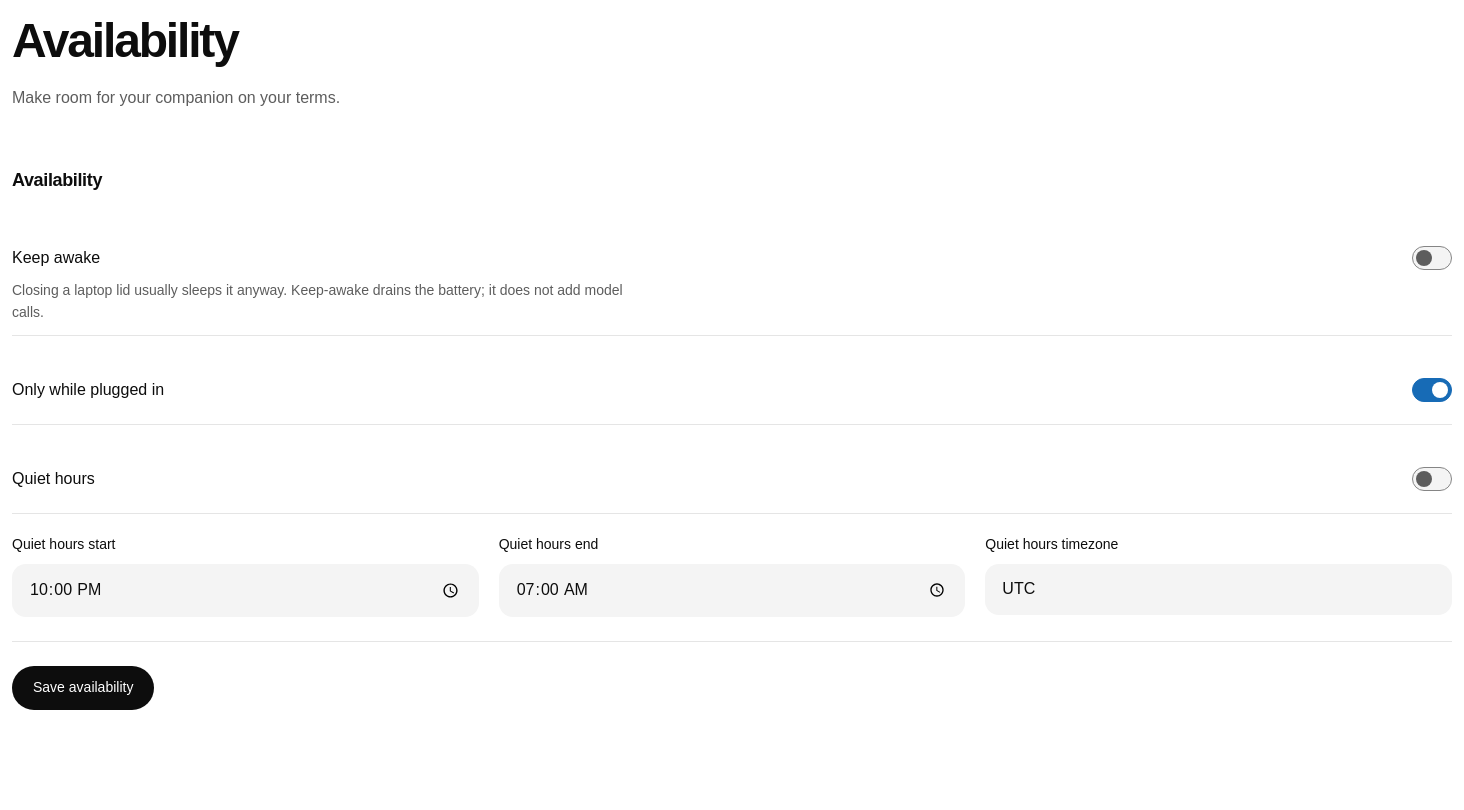
Test: saves only availability and quiet hours
Click the switch labelled "Keep awake" at (1432, 258), box [1412, 246, 1452, 270]
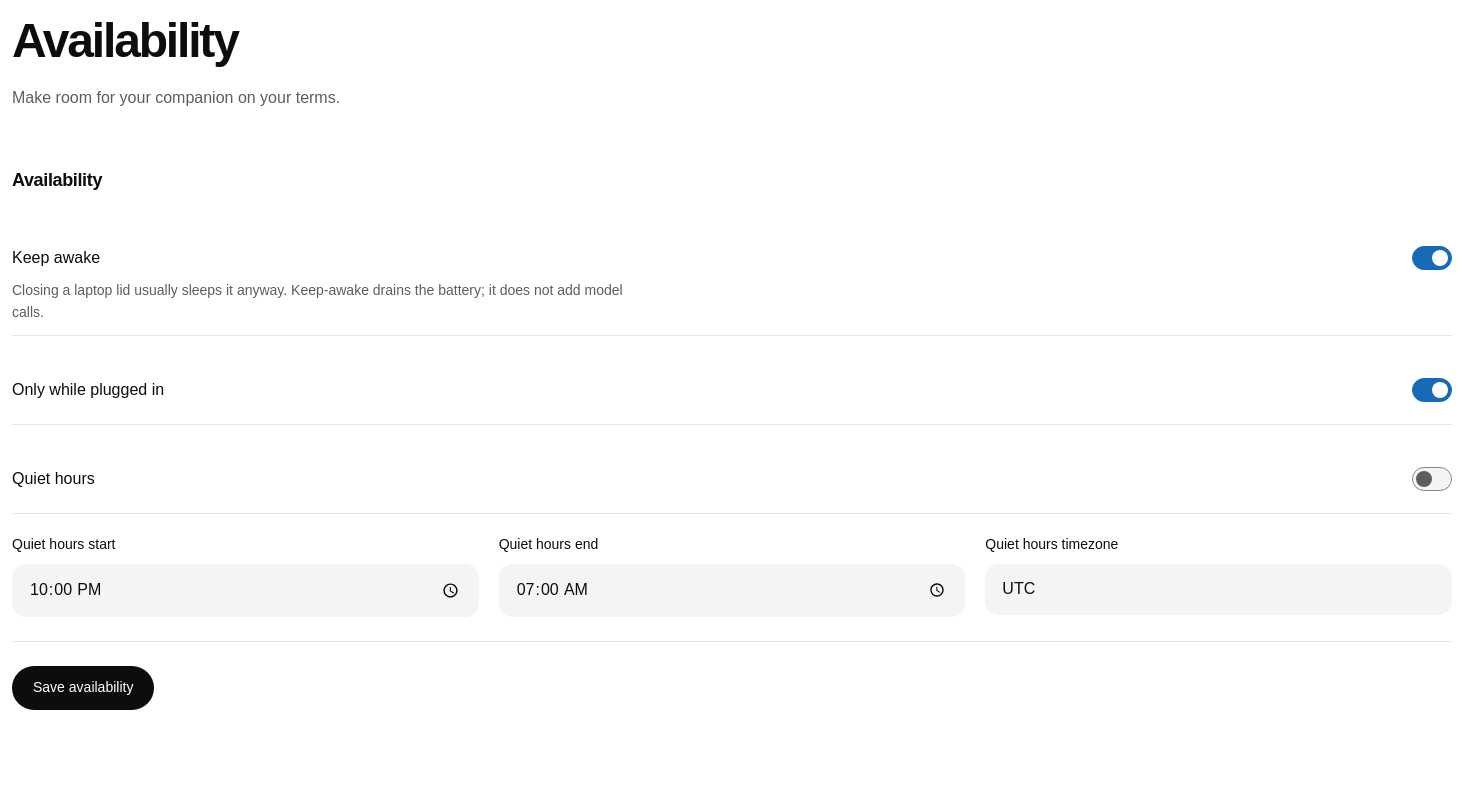
Click the switch labelled "Quiet hours" at (1432, 479), box [1412, 467, 1452, 491]
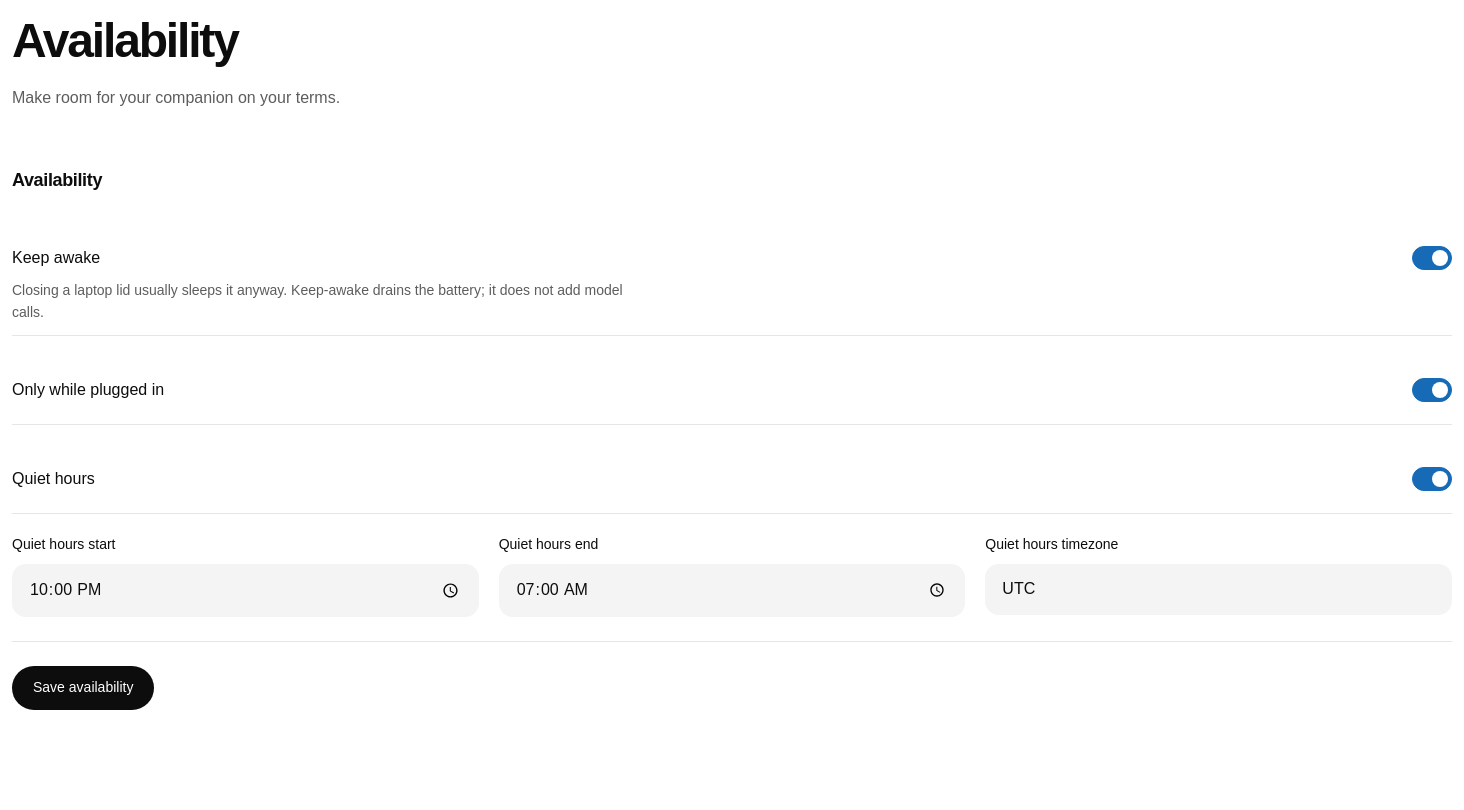
Replace the text in the time field labelled "Quiet hours start" with "21:30" at (245, 590), box [12, 564, 479, 617]
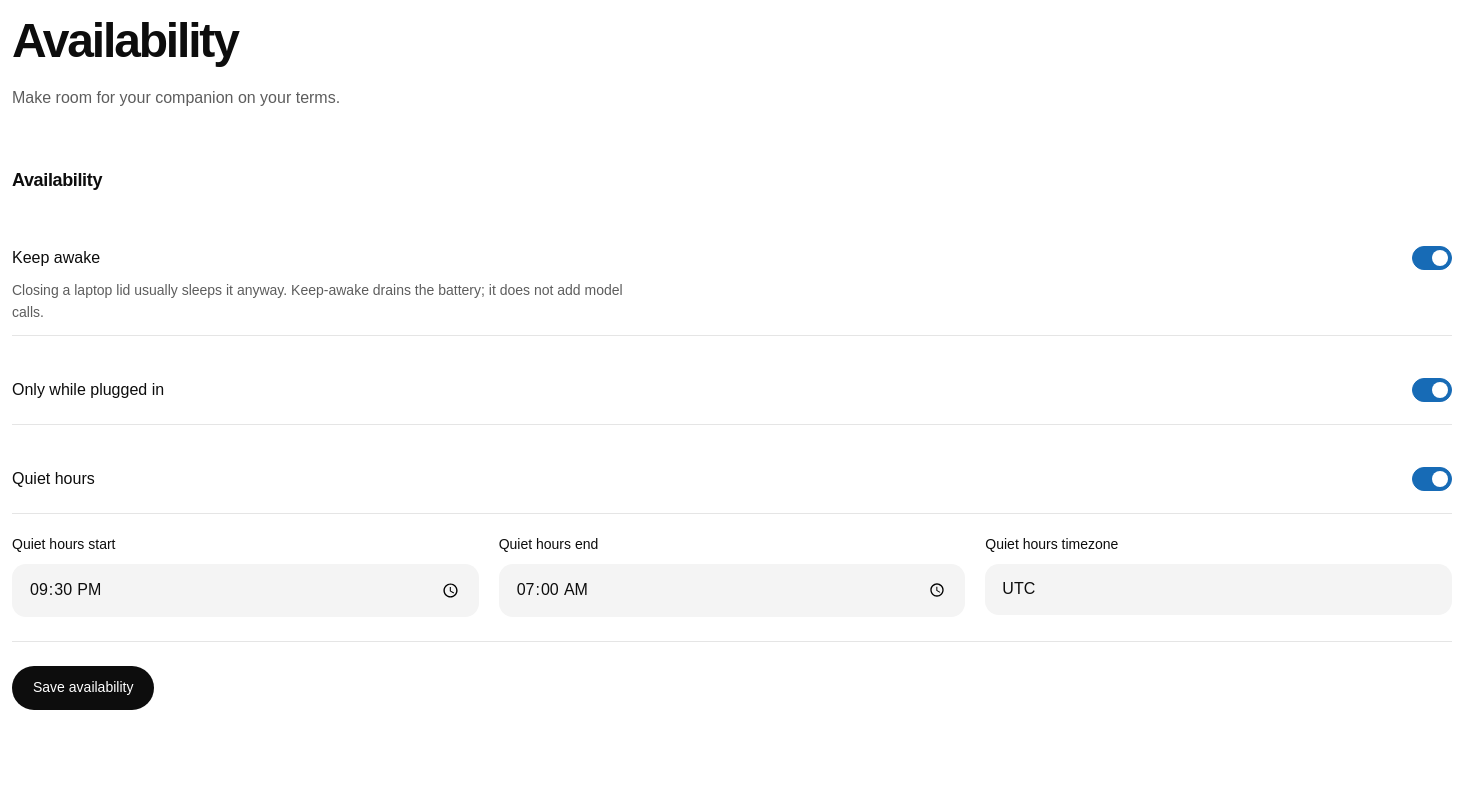
Replace the text in the time field labelled "Quiet hours end" with "08:15" at (732, 590), box [499, 564, 965, 617]
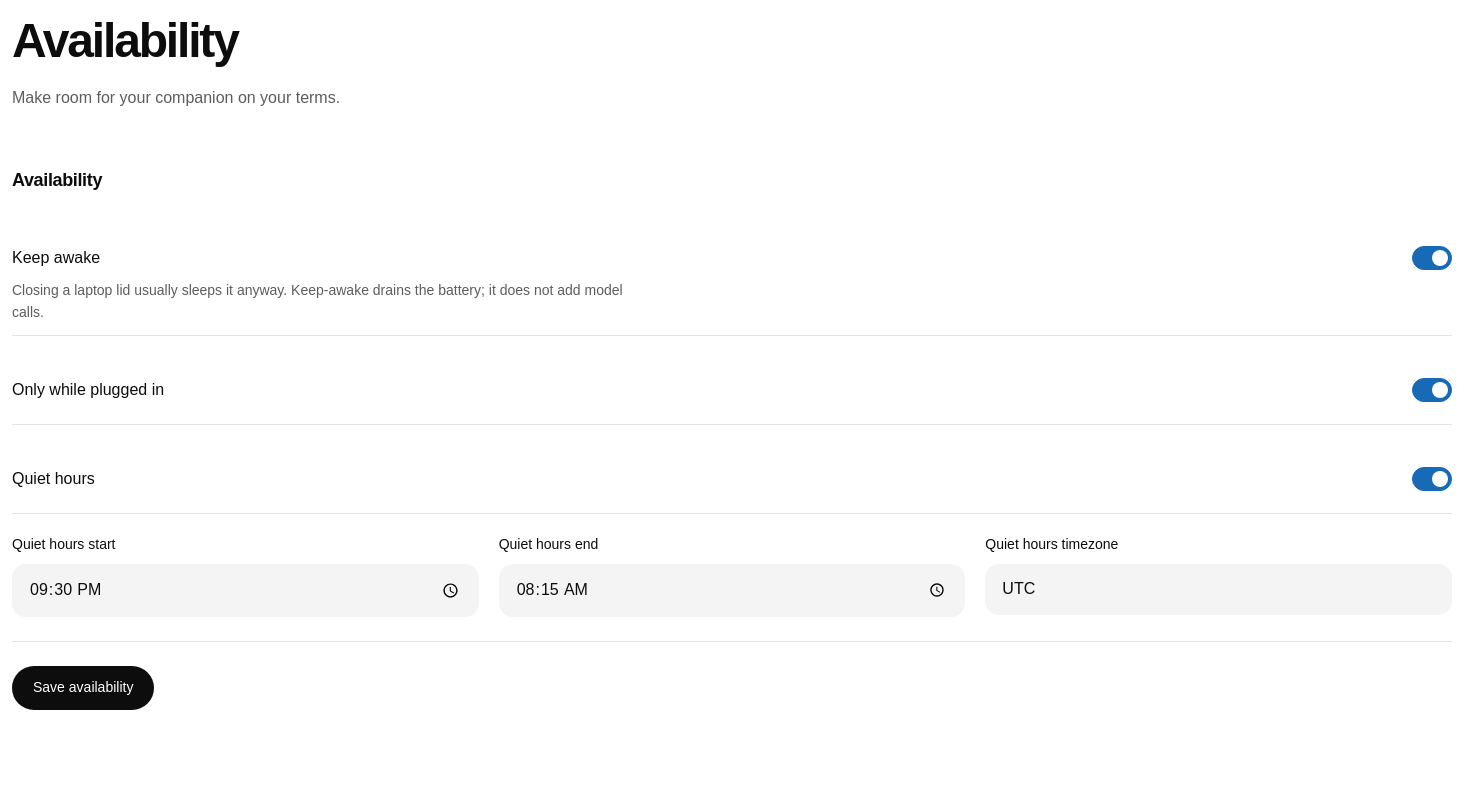
Replace the text in the field labelled "Quiet hours timezone" with "America/New_York" at (1219, 589), box [985, 564, 1452, 615]
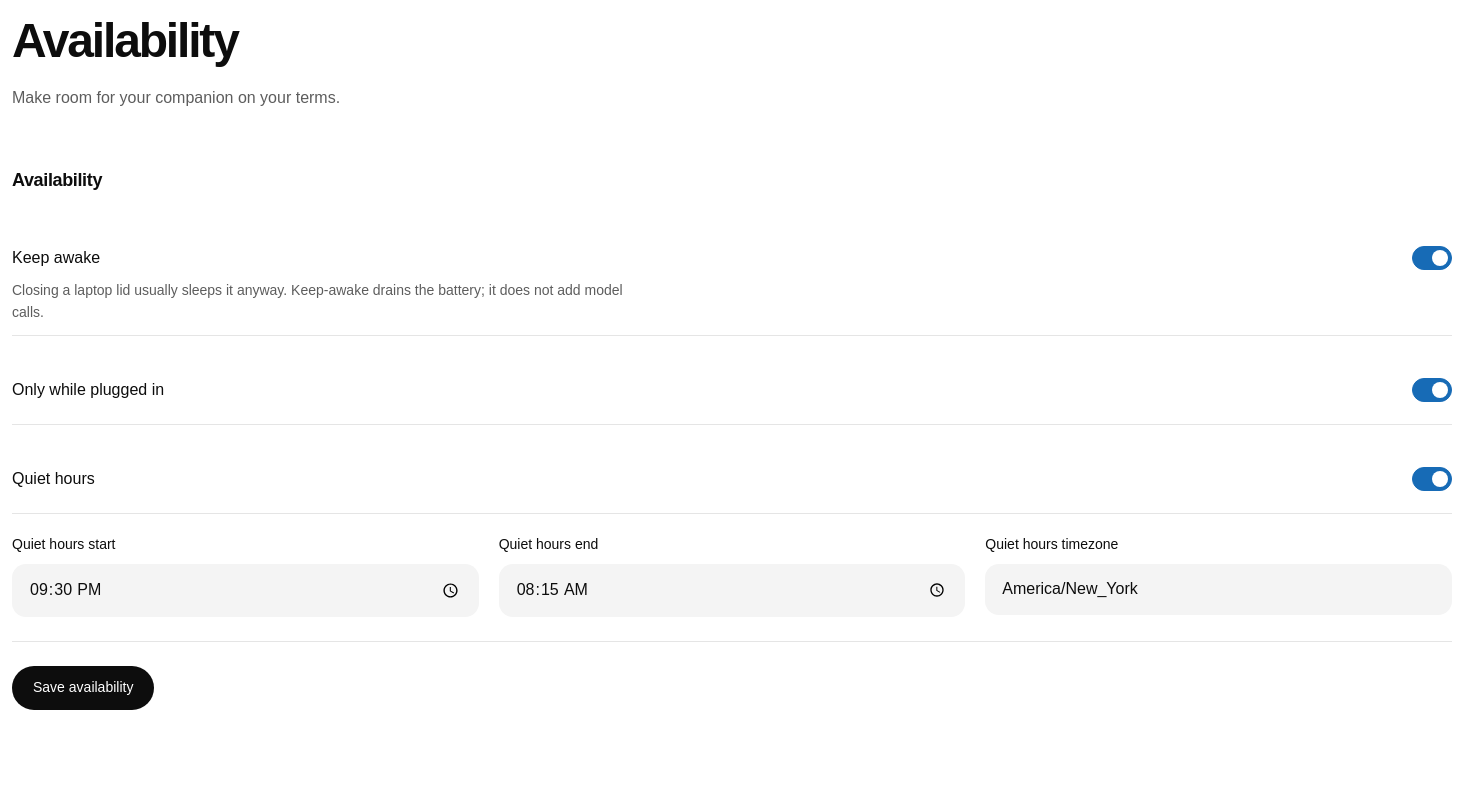
Click the button "Save availability" at (83, 688), box [12, 666, 154, 710]
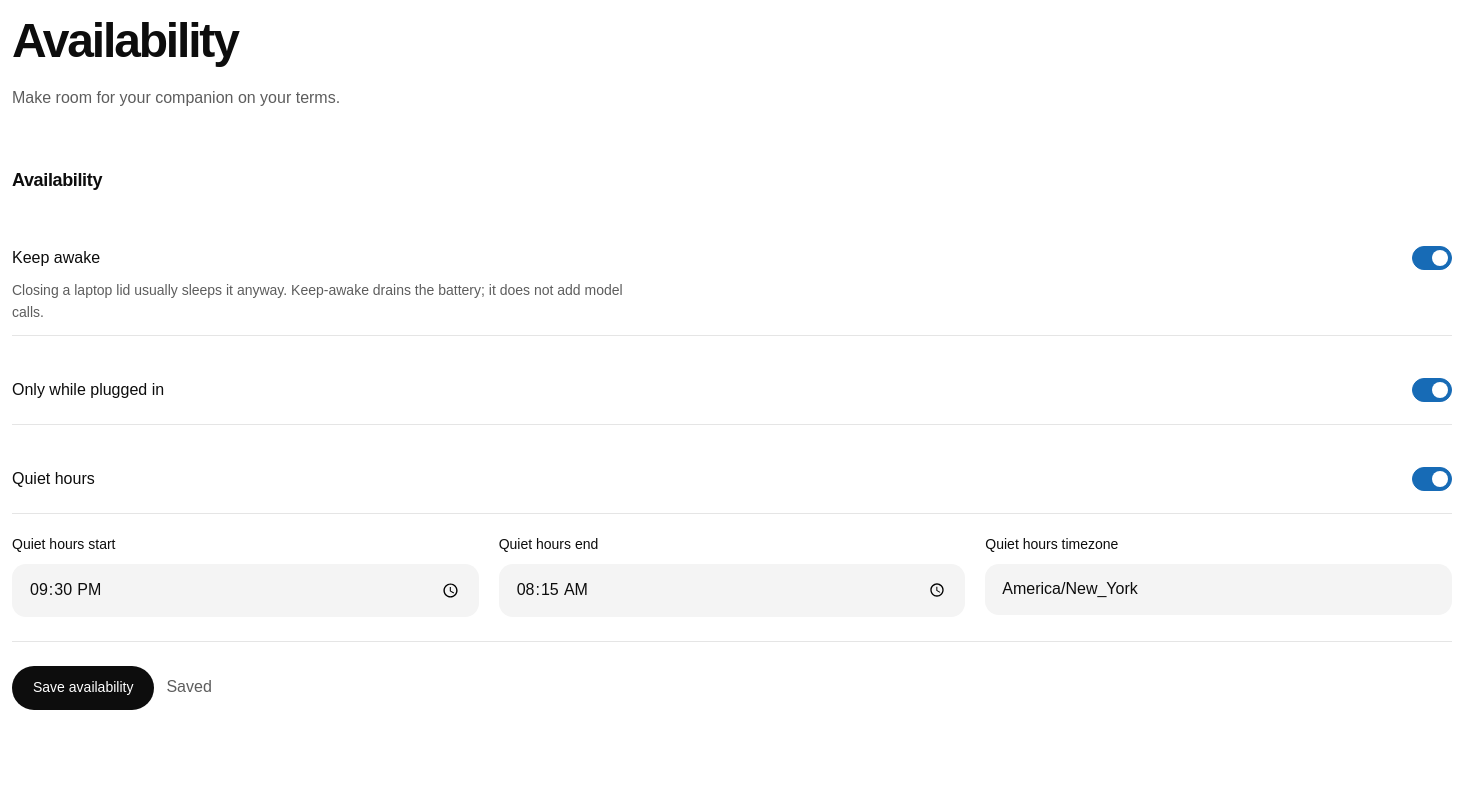
expect the text "Saved" is shown: met, box [166, 675, 212, 700]
